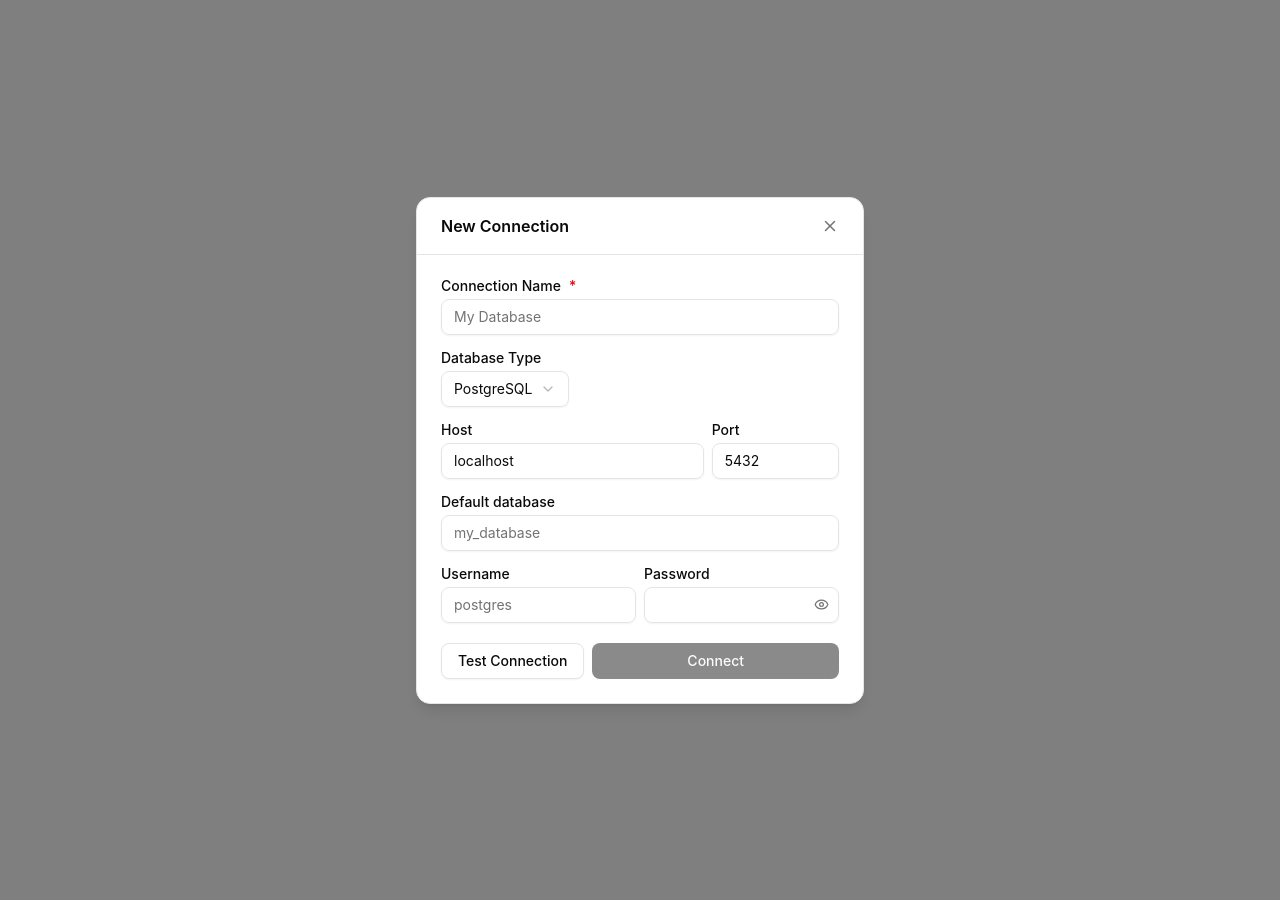
Test Connection – new connection › success: shows "Connection successful." message
Click the button "Test Connection": click(513, 660) [441,642,584,678]
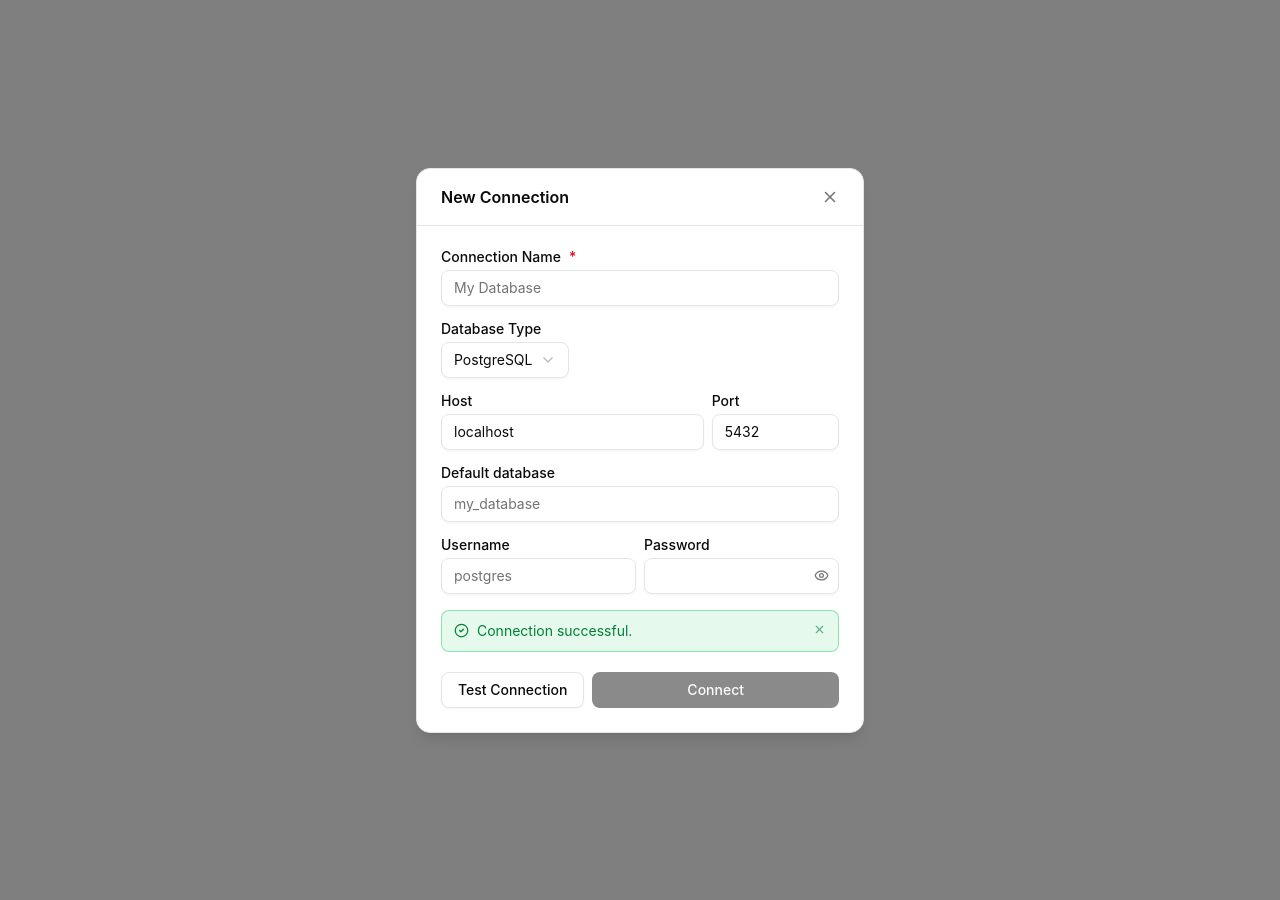
Expected: the text "Connection successful." is shown, [477,622,632,638]
